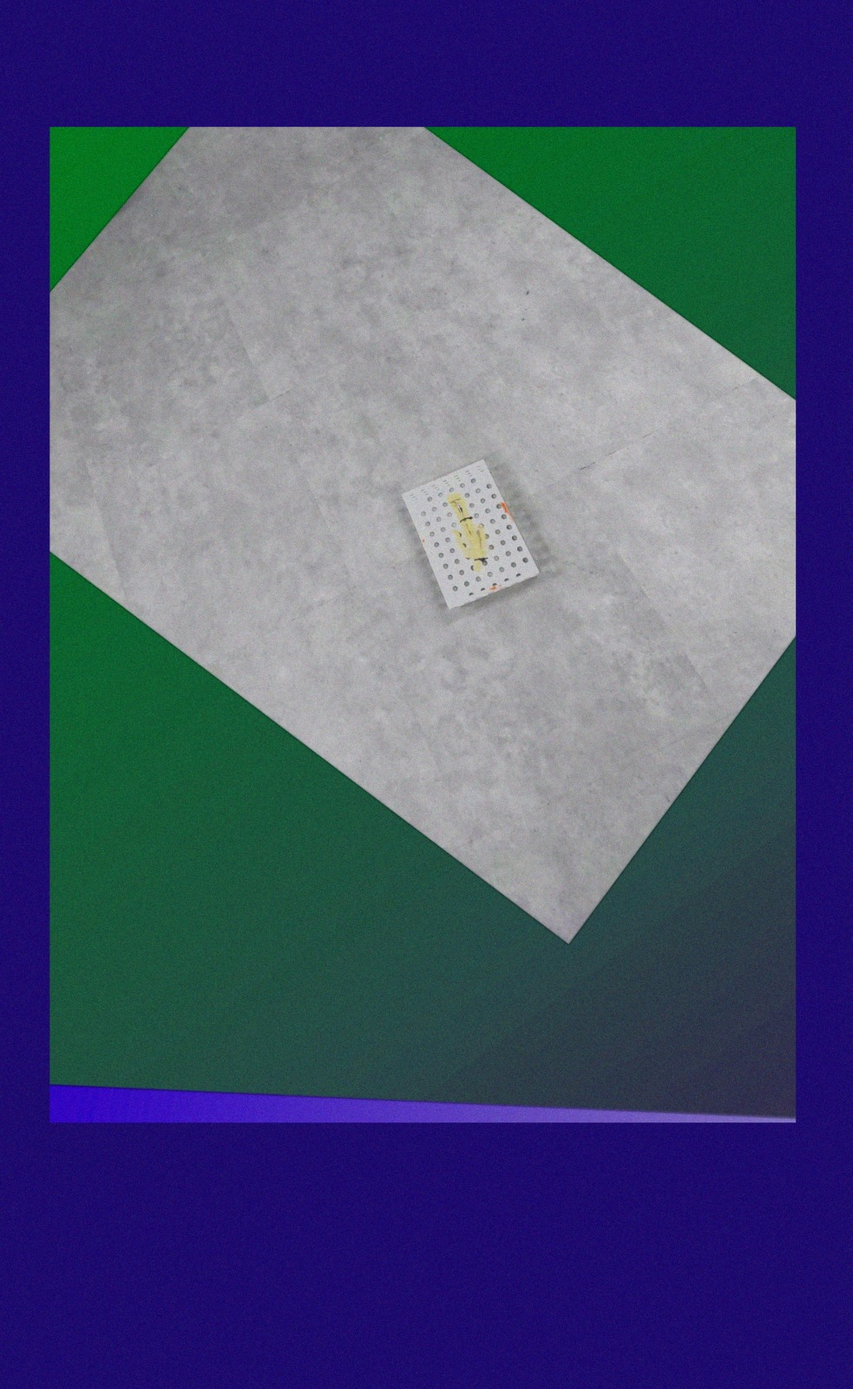basket: (394, 453, 548, 619)
mannequin: (445, 489, 492, 580)
